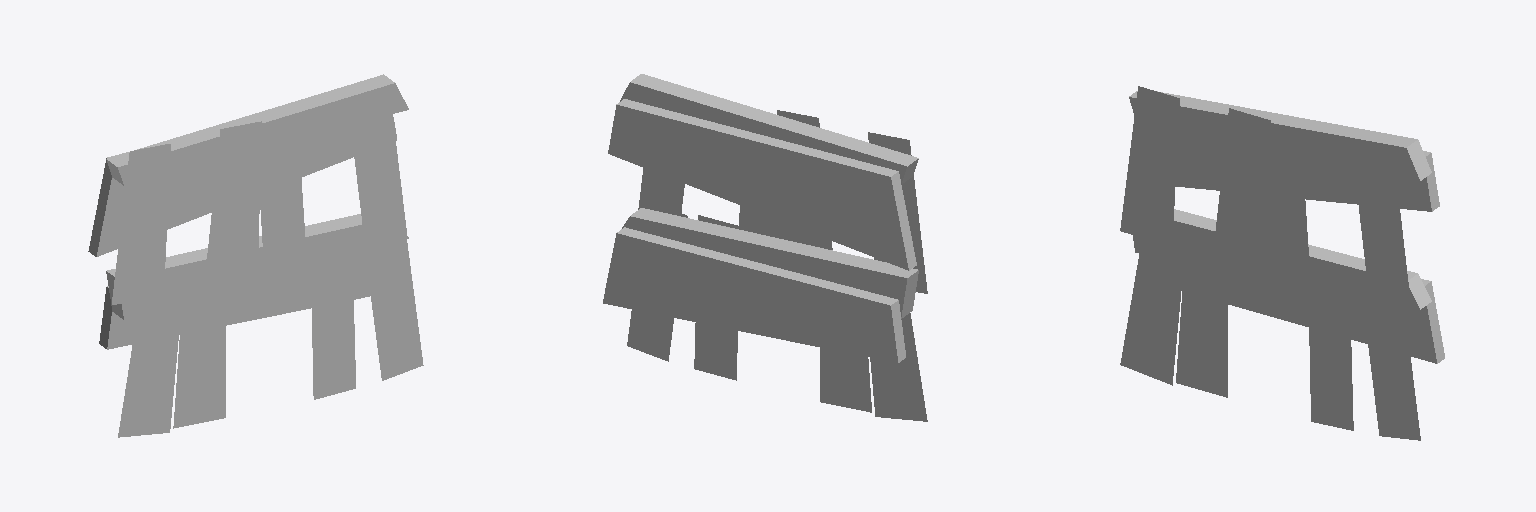
File: kitchen_tools.obj
3 views of the same model, side by side, from view 1: azimuth 30°, elevation 25°; view 2: azimuth 150°, elevation 25°; view 3: azimuth 330°, elevation 25° (orthographic).
Visible parts, largest first — view 1: part1_texture1.004, part0_texture0.003; view 2: part0_texture0.003, part1_texture1.004; view 3: part1_texture1.004, part0_texture0.003.
Boxes of the visible parts, x1=… form: part1_texture1.004: x1=112, y1=98, x2=423, y2=437; part0_texture0.003: x1=88, y1=74, x2=408, y2=349; part0_texture0.003: x1=603, y1=74, x2=918, y2=362; part1_texture1.004: x1=627, y1=110, x2=927, y2=421; part1_texture1.004: x1=1120, y1=86, x2=1420, y2=440; part0_texture0.003: x1=1129, y1=91, x2=1444, y2=363.
Bounding box in the file's own units: 1.13 × 1.02 × 0.168.